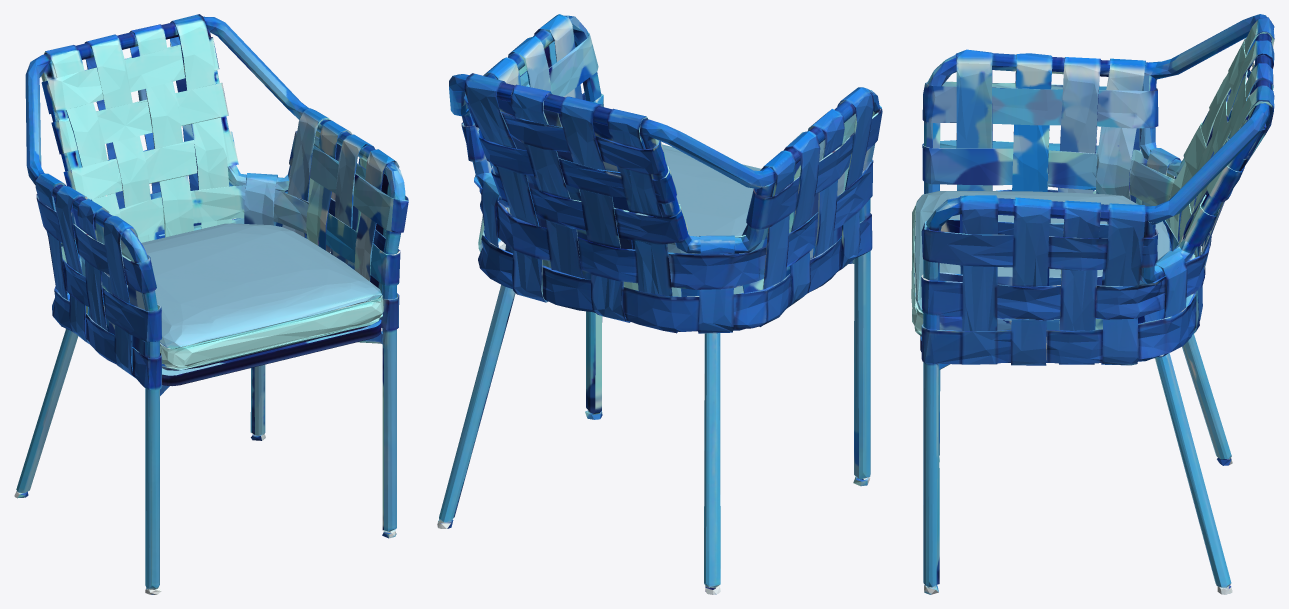
File: edited_mesh.glb
3 views of the same model, side by side, from view 1: azimuth 30°, elevation 25°; view 2: azimuth 150°, elevation 25°; view 3: azimuth 270°, elevation 25° (orthographic). The views are drawn at different scales.
Visible parts, largest first — view 1: solid_001_wire; view 2: solid_001_wire; view 3: solid_001_wire.
Part boxes in pixels (left/top/right/bottom): solid_001_wire: left=14, top=14, right=408, bottom=594; solid_001_wire: left=437, top=14, right=882, bottom=594; solid_001_wire: left=911, top=14, right=1274, bottom=594.
Bounding box in the file's own units: 1.04 × 1.48 × 1.04.
1 material, 1 textured.
